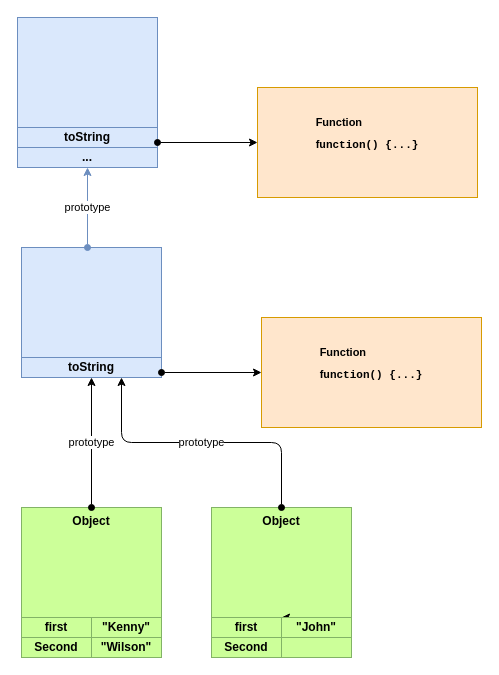
This 499x675 diagram has some shape labels left out. The centre of each missing label's shape, as x and y in pixels:
"Smith: the point at 316,647
Object.prototype: the point at 87,72
Person: the point at 91,302
